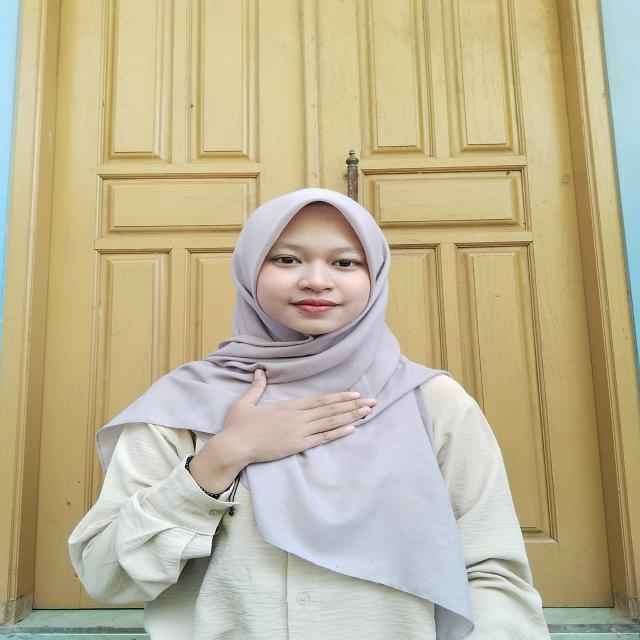tolong: (124, 363, 384, 509)
